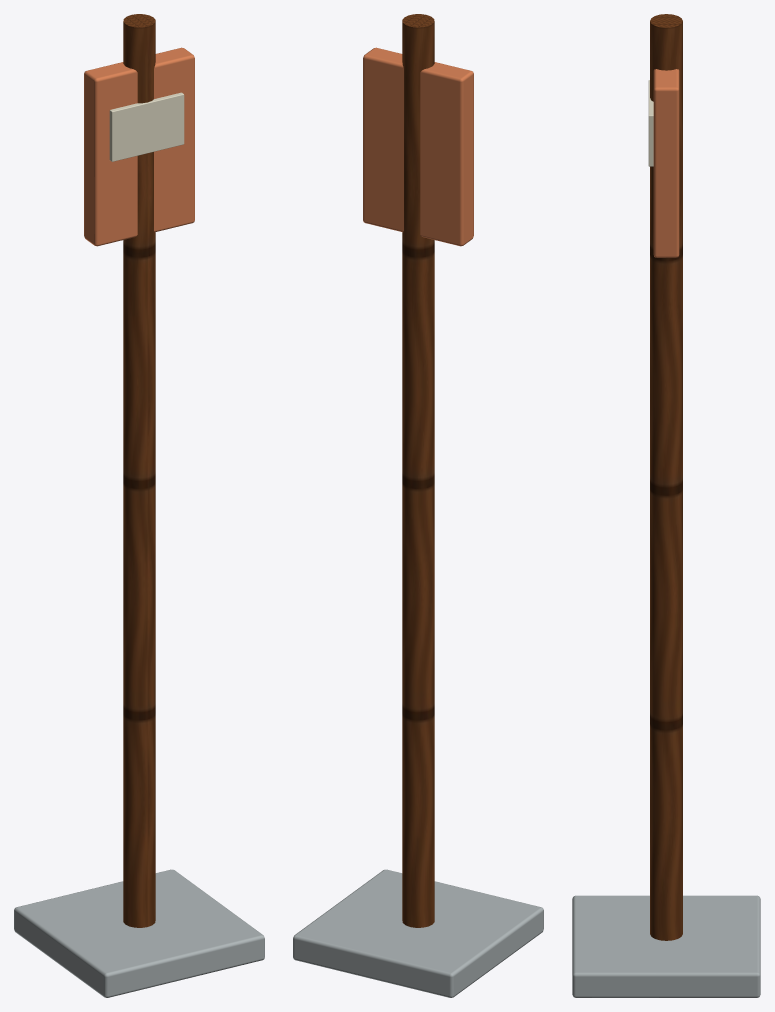
Rendered from flooded-and-coastal-survival-reflective-channel-marker-958ab6a3__20086.glb.
3 renders of one model, left to right at view 1: azimuth 30°, elevation 25°; view 2: azimuth 150°, elevation 25°; view 3: azimuth 270°, elevation 25°, orthographic.
Visible parts, largest first — view 1: reflective-channel-marker; view 2: reflective-channel-marker; view 3: reflective-channel-marker.
Part boxes in pixels (x1,y1,x2,y2): reflective-channel-marker: [14, 14, 264, 997]; reflective-channel-marker: [293, 14, 543, 997]; reflective-channel-marker: [572, 14, 760, 997].
Bounding box in the file's own units: 0.4 × 2.2 × 0.4.
4 materials, 1 textured.
